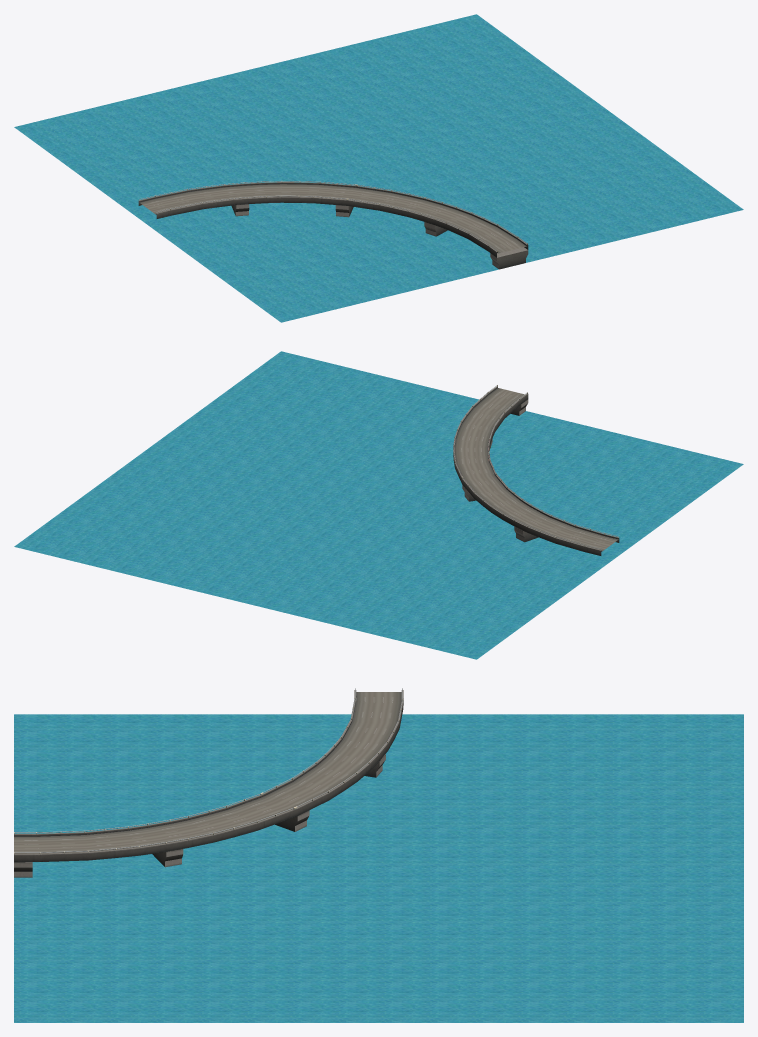
Rendered from Track_LeftCurve_Low.FBX.
3 renders of one model, top to bottom at view 1: azimuth 30°, elevation 25°; view 2: azimuth 150°, elevation 25°; view 3: azimuth 270°, elevation 25°, orthographic. The views are drawn at different scales.
Parts seen in each view (by area): view 1: Wave, Road, Pillar; view 2: Wave, Road; view 3: Wave, Road.
Boxes of the visible parts, bbox=[...] form: Wave: bbox=[14, 14, 743, 322]; Road: bbox=[138, 181, 528, 257]; Pillar: bbox=[490, 247, 528, 269]; Wave: bbox=[14, 351, 743, 659]; Road: bbox=[453, 385, 619, 555]; Wave: bbox=[14, 714, 743, 1022]; Road: bbox=[14, 688, 403, 862].
Size of the model in its own units: 6300 by 251 by 6300.
